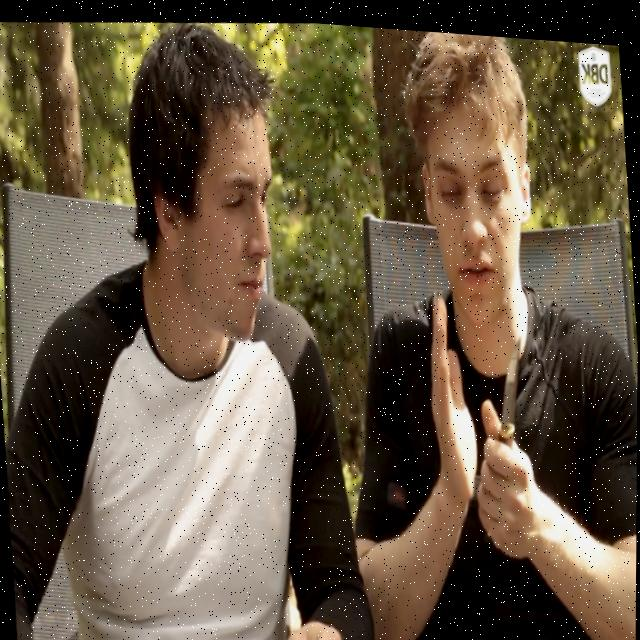knife: (492, 326, 529, 439)
